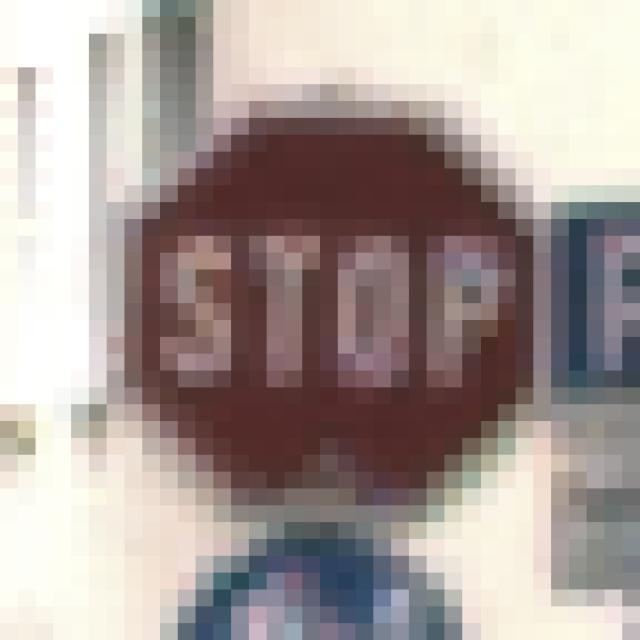STOP: (90, 102, 534, 557)
